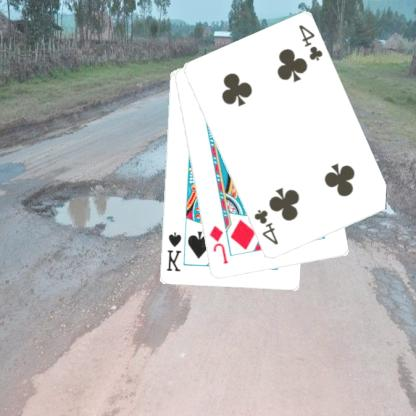4C: (297, 22, 326, 63), (252, 207, 282, 246)
JD: (208, 223, 231, 265)
KS: (165, 229, 184, 273)
